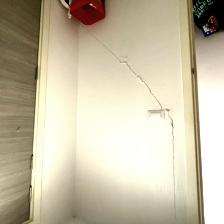Medium: (86, 30, 185, 211)
